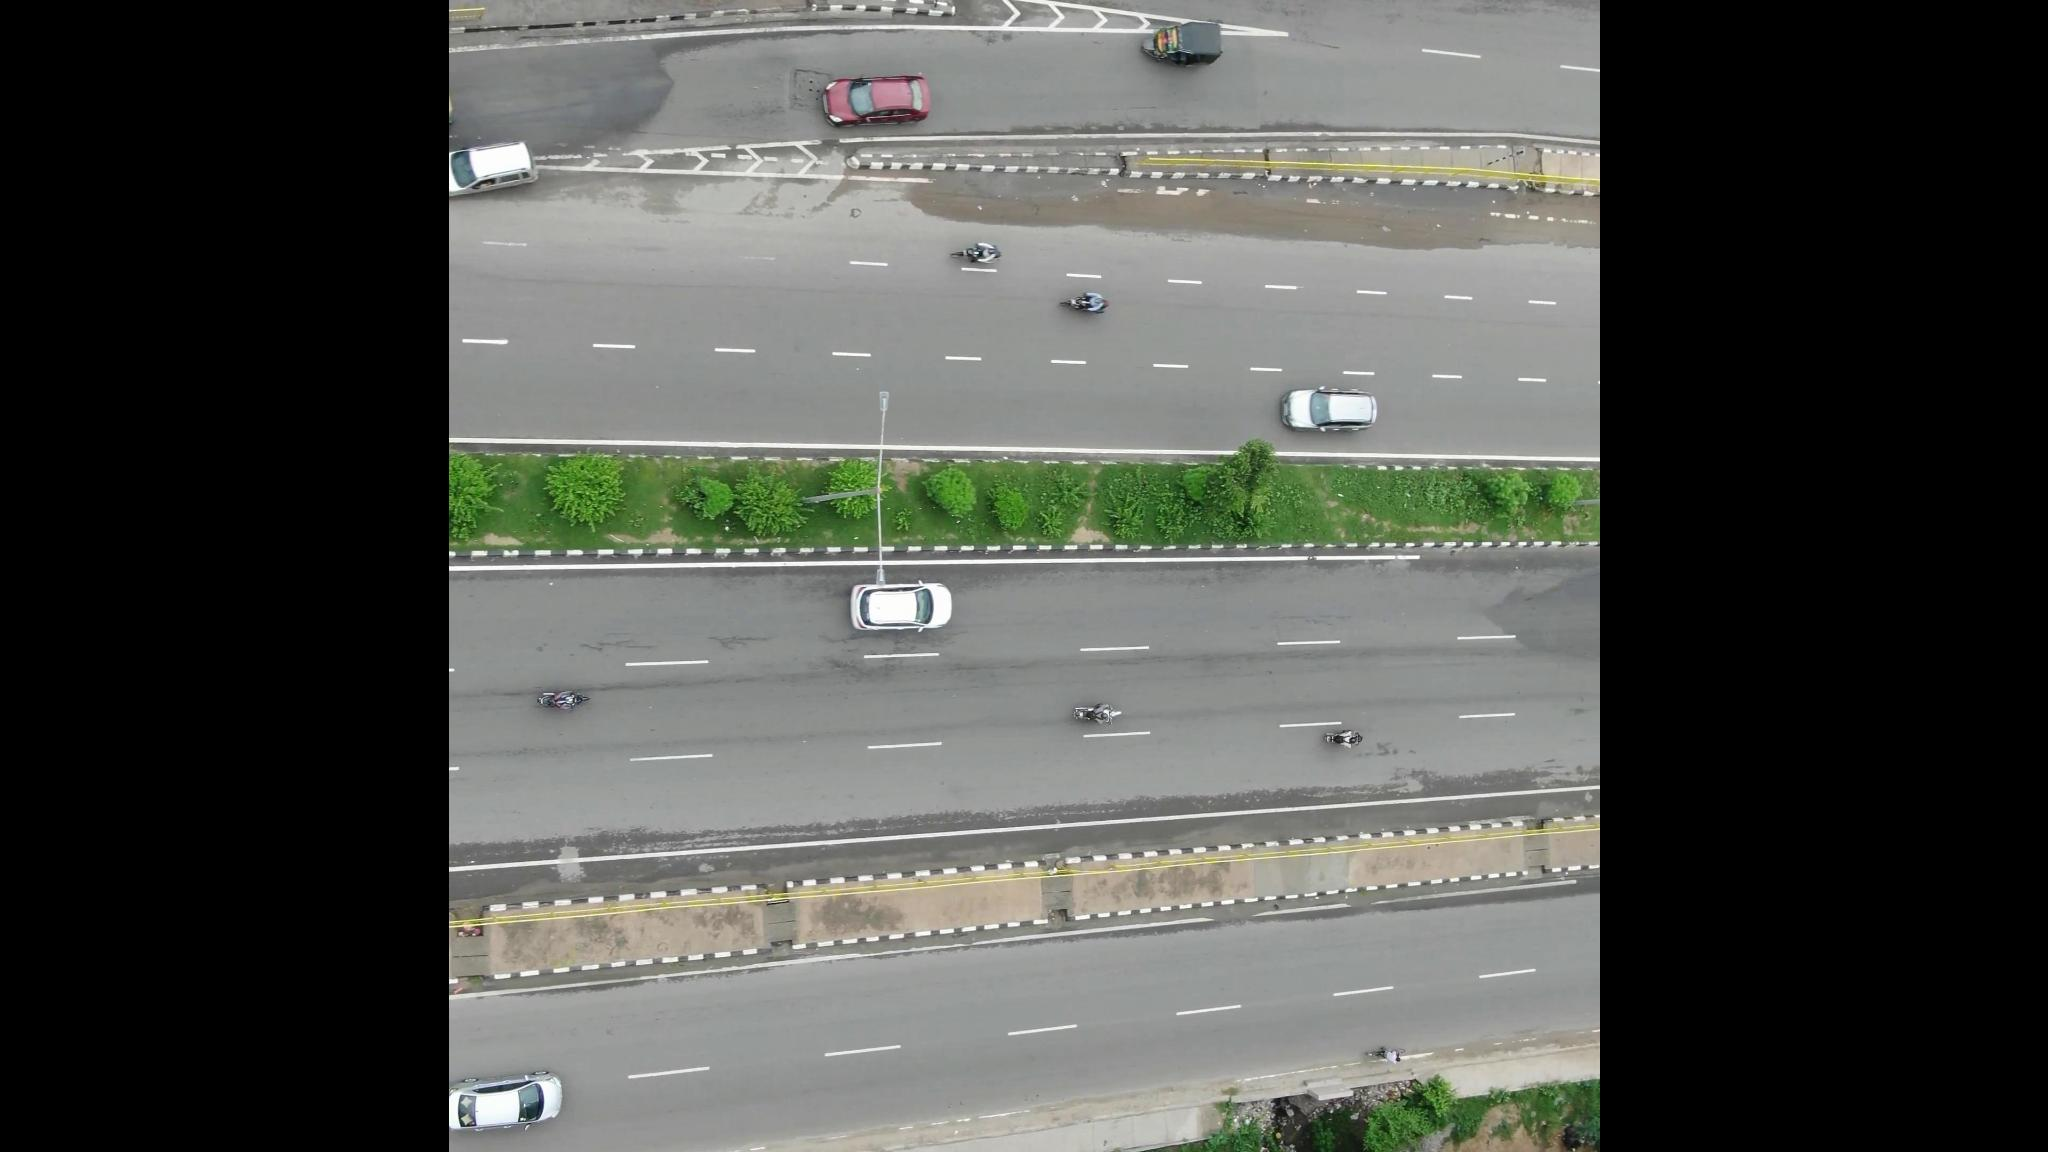Cracks: (554, 605, 661, 674), (693, 610, 793, 663), (836, 634, 916, 681)
Muddy_road: (1300, 165, 1599, 250), (959, 174, 1280, 249)
